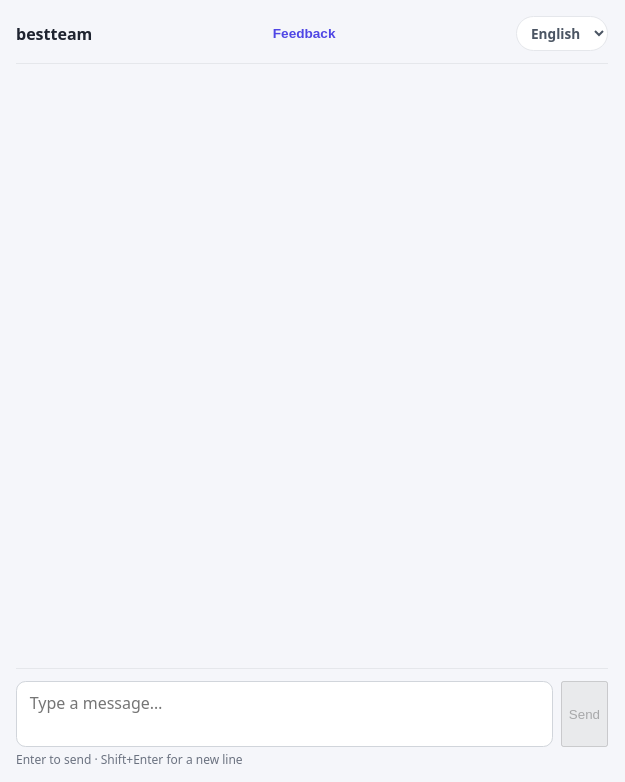
Scenario: ShareChatPage › re-renders a visible notice when the language changes
The image size is (625, 782).
Type "way too long" into the text box with placeholder "Type a message…" at (284,714), box [16, 681, 553, 747]
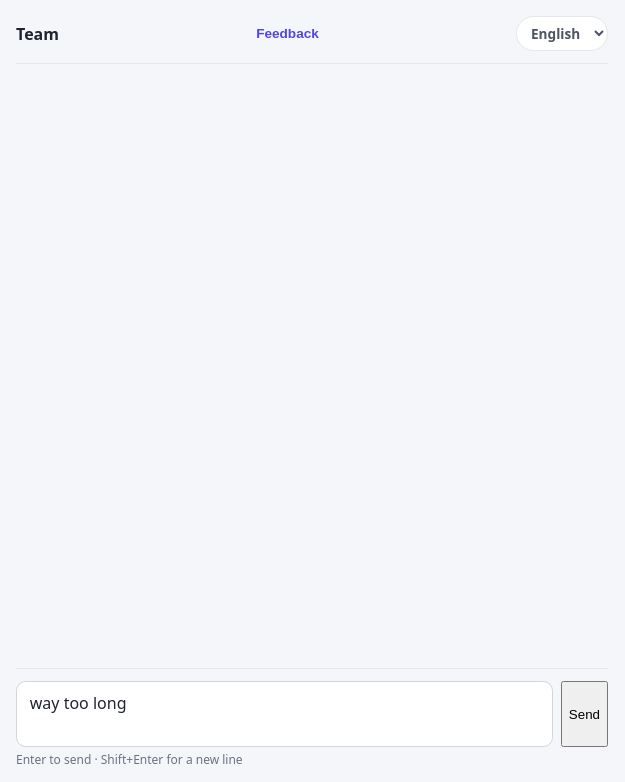
Click the button "Send" at (584,714), box [561, 681, 608, 747]
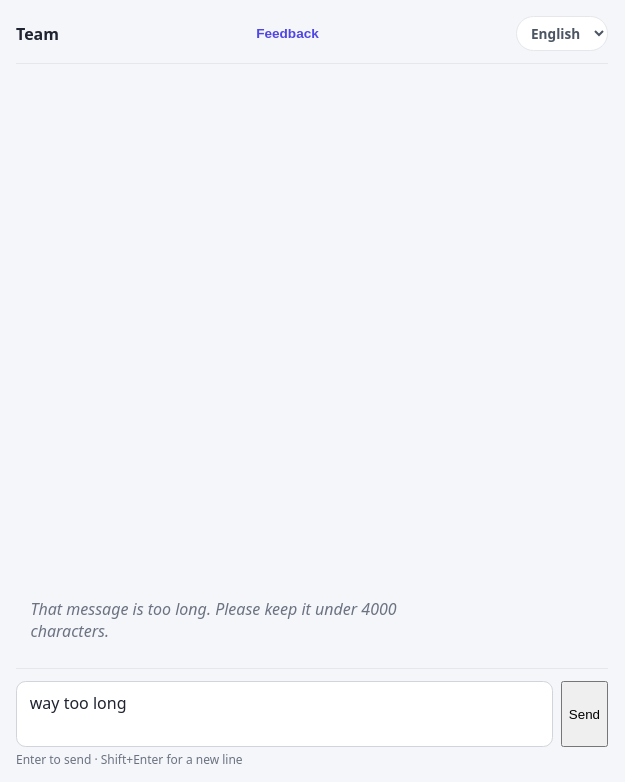
Expected: the text "That message is too long" is shown, [30, 598, 401, 642]
Select "中文" in the dropdown named "language" at (562,34), box [516, 16, 608, 51]
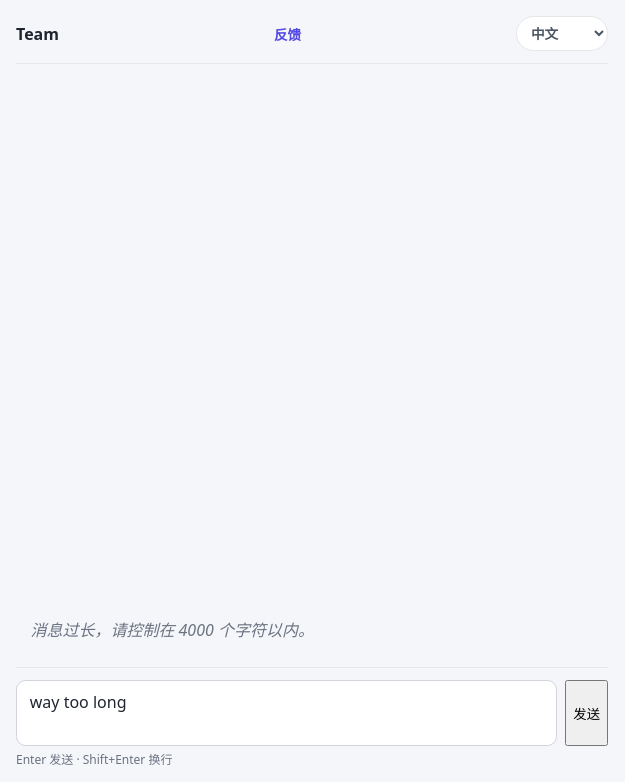
Expected: the text "消息过长，请控制在 4000 个字符以内。" is shown, [30, 619, 314, 641]
